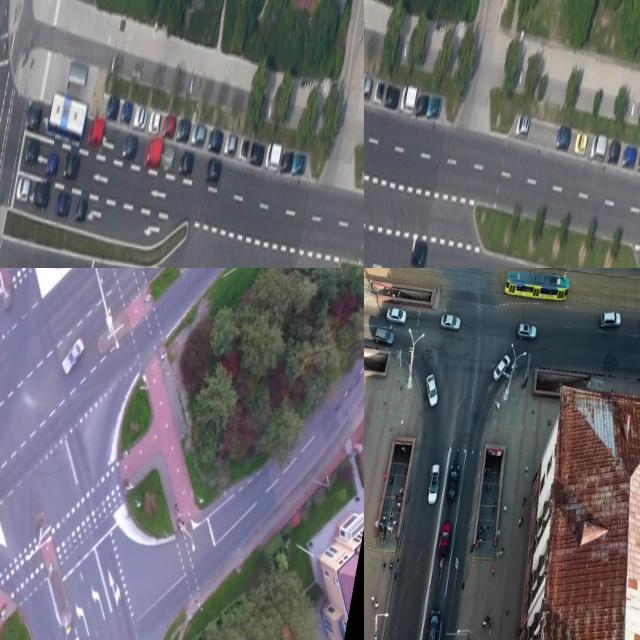UAI: (59, 334, 86, 377), (424, 463, 441, 505), (143, 135, 163, 169), (421, 374, 441, 408), (444, 463, 461, 503), (436, 521, 453, 560), (491, 352, 511, 383), (24, 100, 43, 132), (86, 116, 105, 148), (589, 131, 608, 163), (32, 179, 51, 210), (598, 309, 623, 332), (424, 607, 441, 640), (61, 152, 80, 181), (264, 141, 282, 171), (399, 83, 417, 113), (204, 156, 222, 185), (24, 136, 41, 166), (410, 240, 428, 268), (121, 133, 138, 162), (372, 326, 396, 346), (385, 305, 408, 325), (515, 321, 538, 341), (15, 176, 32, 203), (178, 149, 195, 176), (248, 140, 265, 167), (54, 191, 71, 217), (555, 123, 572, 149), (132, 103, 148, 130), (439, 312, 461, 331), (175, 116, 191, 142), (384, 83, 400, 109), (206, 129, 223, 153), (147, 108, 162, 135), (73, 197, 88, 223), (162, 113, 177, 139), (606, 138, 621, 164), (190, 123, 206, 147), (621, 145, 637, 169), (426, 94, 442, 118), (160, 146, 174, 173), (44, 152, 59, 177), (291, 152, 307, 175), (105, 94, 120, 118), (515, 114, 530, 138), (223, 132, 237, 156), (119, 99, 133, 123), (574, 130, 588, 154), (415, 92, 429, 116), (280, 149, 294, 172), (238, 136, 250, 160), (373, 79, 385, 103), (364, 74, 372, 100)
car: (44, 90, 89, 149), (502, 268, 569, 305)
